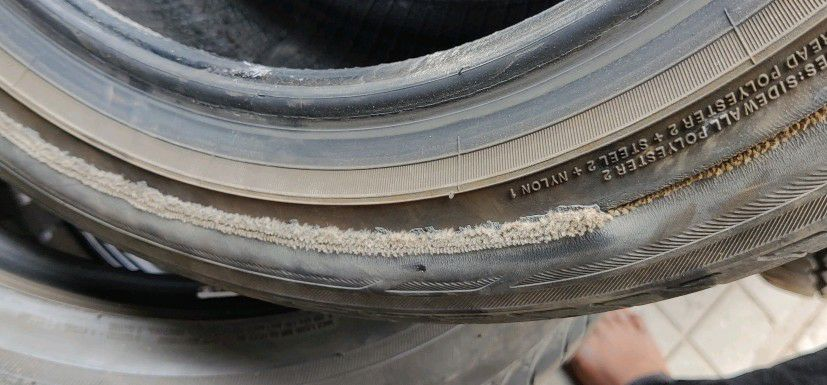bead_damage: (0, 88, 826, 276)
